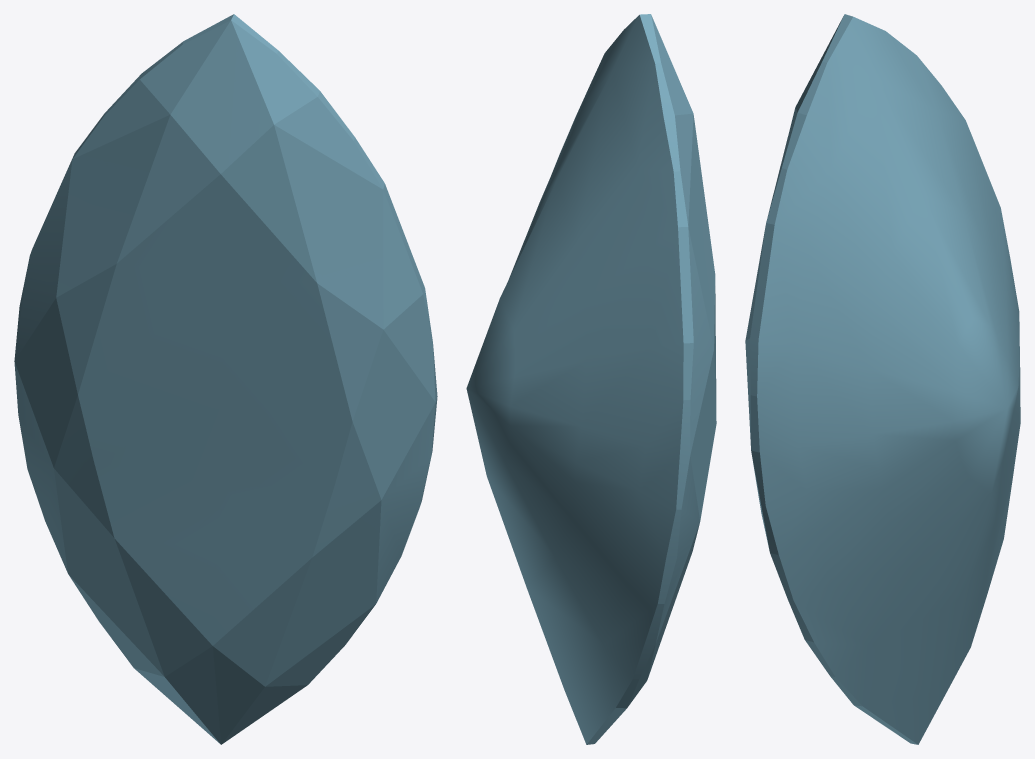
Rendered from BL3_8shapes_Marquise_Classic_Stone.001 2.glb.
The picture shows the model from 3 angles, left to right: view 1: azimuth 30°, elevation 25°; view 2: azimuth 150°, elevation 25°; view 3: azimuth 270°, elevation 25°; orthographic projection. The views are drawn at different scales.
Visible parts, largest first — view 1: BL3_8shapes_Marquise_Classic_Stone.001; view 2: BL3_8shapes_Marquise_Classic_Stone.001; view 3: BL3_8shapes_Marquise_Classic_Stone.001.
Part boxes in pixels (x1,y1,x2,y2): BL3_8shapes_Marquise_Classic_Stone.001: [14, 14, 437, 744]; BL3_8shapes_Marquise_Classic_Stone.001: [466, 14, 716, 744]; BL3_8shapes_Marquise_Classic_Stone.001: [745, 14, 1020, 744].
Bounding box in the file's own units: 0.2812 × 0.6993 × 0.2427.
